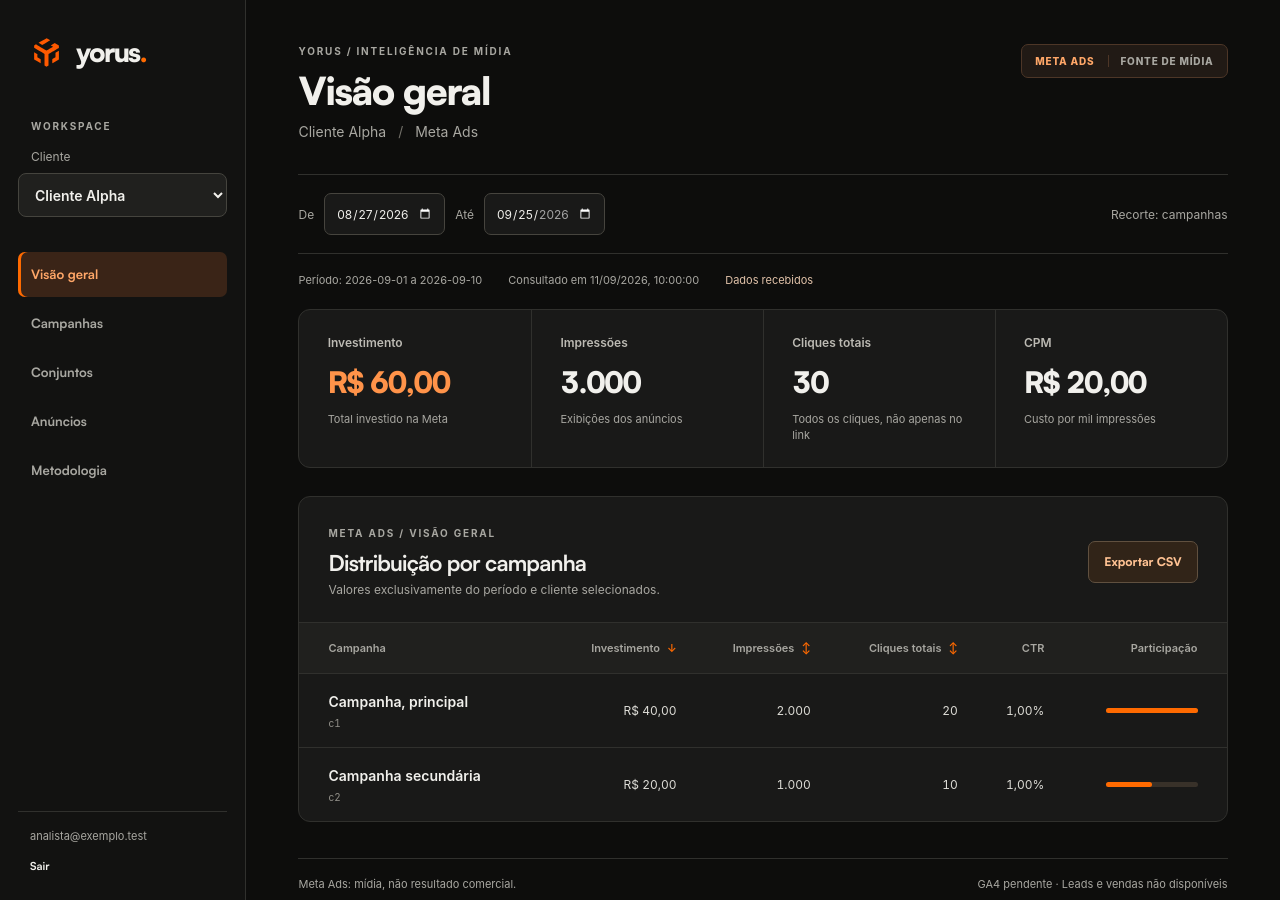
Test case: dashboard UI › does not claim logout succeeded when the server rejects it
The width and height of the screenshot is (1280, 900).
Check: the text "Campanha, principal" is shown, box top-left (328, 693), bottom-right (468, 710)
Click the button "Sair": coordinates (40, 866) top-left (30, 855), bottom-right (50, 878)
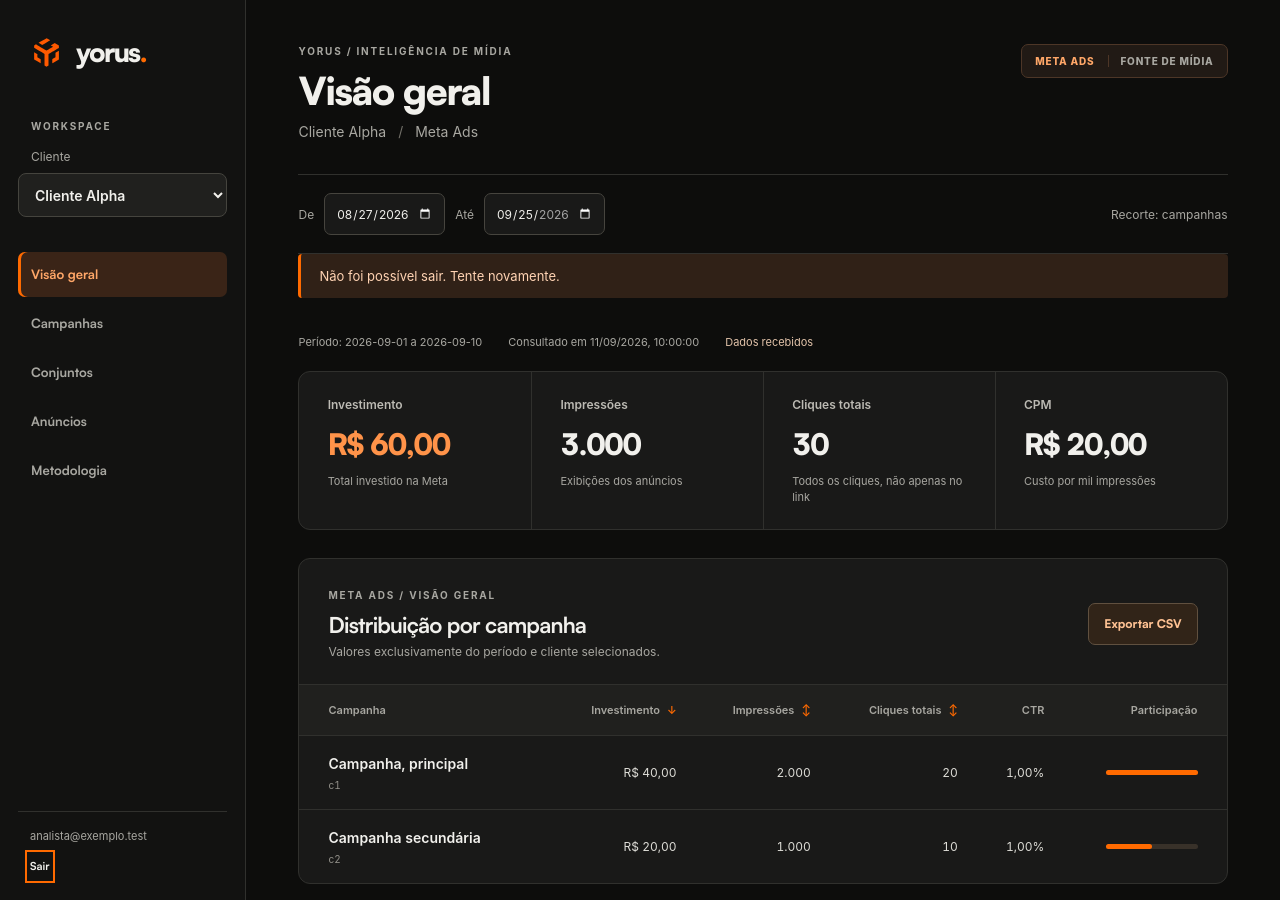
Check: the text "Campanha, principal" is shown, box top-left (328, 755), bottom-right (468, 772)
Check: the message shows "Não foi possível sair", box top-left (320, 268), bottom-right (560, 284)
